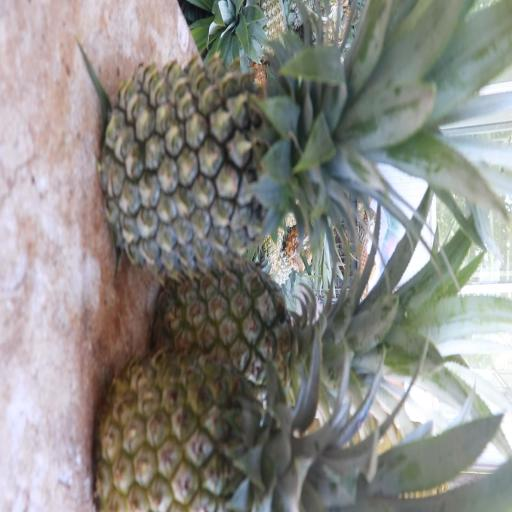------------------------------: (91, 354, 435, 512), (148, 250, 386, 420)
